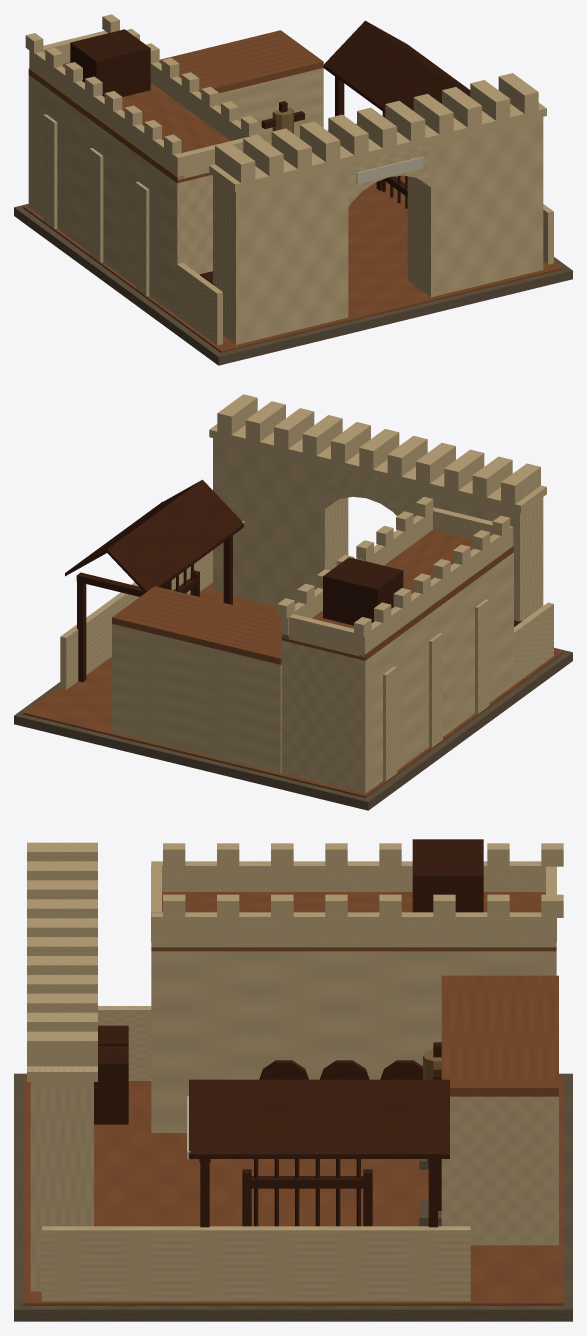
Rendered from Berber_Barracks_Age3.fbx.
3 views of the same model, one above another, from view 1: azimuth 30°, elevation 25°; view 2: azimuth 150°, elevation 25°; view 3: azimuth 270°, elevation 25° (orthographic). The views are drawn at different scales.
Visible parts, largest first — view 1: entry_west_pier, entry_east_pier, west_armoury, court_floor, foundation, pitched_training_shelter, rear_roof, west_roof, armoury_roof_logistics, entry_cap, rear_store, west_parapet (+21 smaller); view 2: west_armoury, rear_store, entry_east_pier, pitched_training_shelter, foundation, rear_roof, court_floor, entry_west_pier, armoury_roof_logistics, entry_cap, west_roof, court_side_wall.001 (+23 smaller); view 3: west_armoury, court_floor, court_side_wall.001, pitched_training_shelter, rear_store, rear_roof, west_parapet.001, foundation, entry_east_pier, west_parapet, west_roof, armoury_roof_logistics (+22 smaller).
Boxes of the visible parts, x1=… form: entry_west_pier: x1=213, y1=164, x2=348, y2=344; entry_east_pier: x1=407, y1=117, x2=543, y2=297; west_armoury: x1=28, y1=75, x2=212, y2=315; court_floor: x1=23, y1=175, x2=563, y2=352; foundation: x1=14, y1=123, x2=572, y2=365; pitched_training_shelter: x1=323, y1=20, x2=470, y2=112; rear_roof: x1=159, y1=30, x2=323, y2=93; west_roof: x1=28, y1=62, x2=230, y2=183; armoury_roof_logistics: x1=70, y1=29, x2=150, y2=96; entry_cap: x1=209, y1=103, x2=546, y2=191; rear_store: x1=218, y1=68, x2=323, y2=145; west_parapet: x1=29, y1=50, x2=184, y2=179; west_armoury: x1=281, y1=552, x2=513, y2=793; rear_store: x1=112, y1=624, x2=281, y2=773; entry_east_pier: x1=213, y1=438, x2=348, y2=606; pitched_training_shelter: x1=65, y1=479, x2=244, y2=592; foundation: x1=14, y1=647, x2=572, y2=810; rear_roof: x1=112, y1=586, x2=281, y2=664; court_floor: x1=23, y1=583, x2=563, y2=797; entry_west_pier: x1=407, y1=485, x2=543, y2=621; armoury_roof_logistics: x1=323, y1=557, x2=403, y2=625; entry_cap: x1=209, y1=424, x2=546, y2=512; west_roof: x1=281, y1=530, x2=513, y2=660; court_side_wall.001: x1=60, y1=550, x2=212, y2=689; west_armoury: x1=151, y1=951, x2=556, y2=1132; court_floor: x1=23, y1=1075, x2=563, y2=1305; court_side_wall.001: x1=42, y1=1226, x2=470, y2=1301; pitched_training_shelter: x1=189, y1=1079, x2=449, y2=1158; rear_store: x1=441, y1=1096, x2=558, y2=1245; rear_roof: x1=441, y1=975, x2=558, y2=1096; west_parapet.001: x1=151, y1=912, x2=556, y2=947; foundation: x1=14, y1=1073, x2=572, y2=1321; entry_east_pier: x1=30, y1=1082, x2=93, y2=1291; west_parapet: x1=151, y1=861, x2=545, y2=891; west_roof: x1=151, y1=892, x2=556, y2=951; armoury_roof_logistics: x1=412, y1=839, x2=483, y2=912.
Size of the model in its own units: 600 by 310 by 600.
6 materials, 6 textured.
